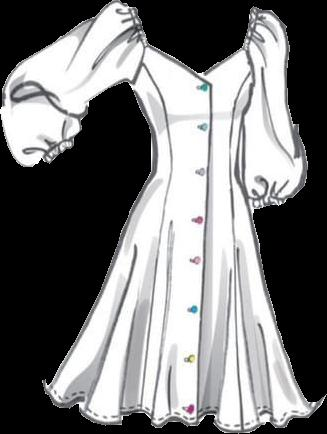Bodice: (129, 41, 254, 177)
Hemline: (43, 387, 315, 433)
Neckline: (145, 43, 245, 75)
Skirt: (44, 173, 313, 432)
Sleeve: (0, 0, 147, 166), (241, 6, 307, 209)
Sleeveline: (127, 7, 257, 83)
